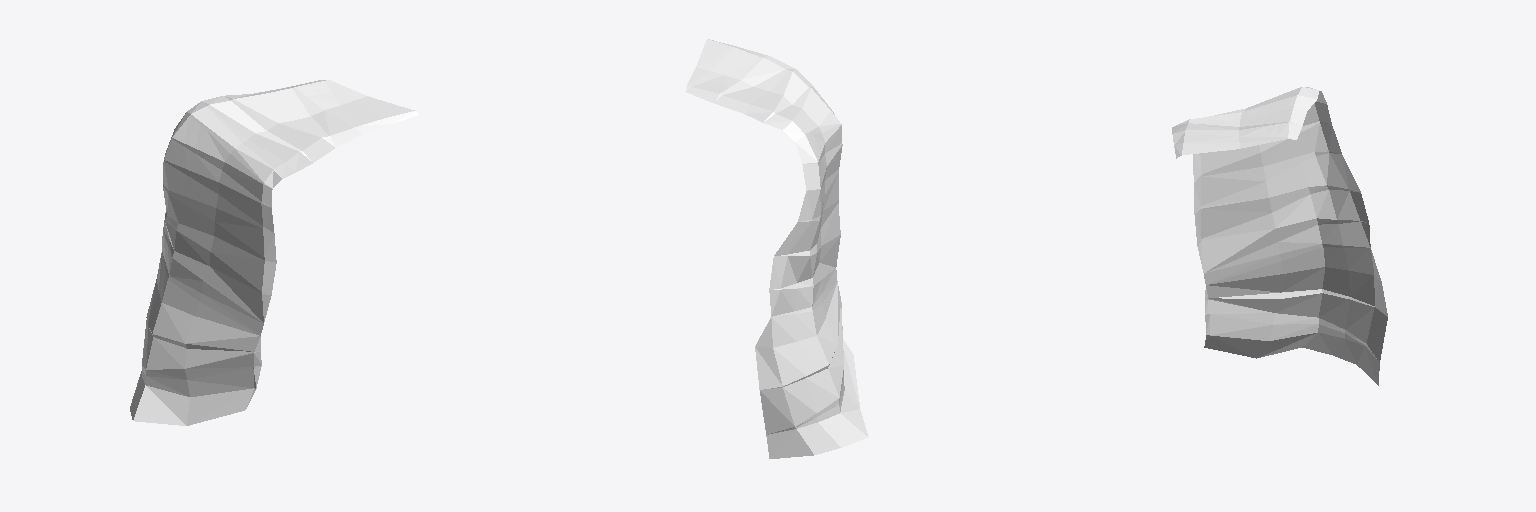
The model's file is SplineWater03.obj.
3 views of the same model, side by side, from view 1: azimuth 30°, elevation 25°; view 2: azimuth 150°, elevation 25°; view 3: azimuth 270°, elevation 25° (orthographic).
Parts seen in each view (by area): view 1: SplineWater03; view 2: SplineWater03; view 3: SplineWater03.
Part boxes in pixels (left/top/right/bottom): SplineWater03: left=130, top=80, right=418, bottom=425; SplineWater03: left=685, top=39, right=868, bottom=458; SplineWater03: left=1172, top=87, right=1387, bottom=385.
Bounding box in the file's own units: 158 × 209 × 132.